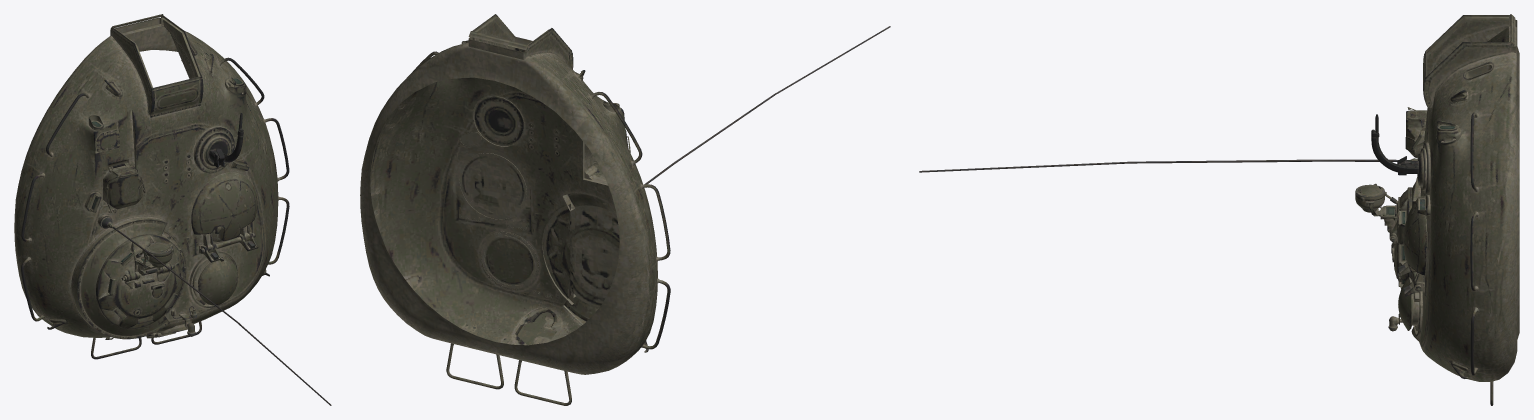
File: Turret_01.glb
The picture shows the model from 3 angles, left to right: view 1: azimuth 30°, elevation 25°; view 2: azimuth 150°, elevation 25°; view 3: azimuth 270°, elevation 25°; orthographic projection. The views are drawn at different scales.
Visible parts, largest first — view 1: set_0_group_0; view 2: set_0_group_0; view 3: set_0_group_0.
Boxes of the visible parts, bbox=[...] form: set_0_group_0: bbox=[14, 14, 331, 405]; set_0_group_0: bbox=[360, 14, 890, 405]; set_0_group_0: bbox=[919, 14, 1519, 405].
Bounding box in the file's own units: 2.66 × 3.05 × 4.72.
Materials: 1 (1 with a texture image).
